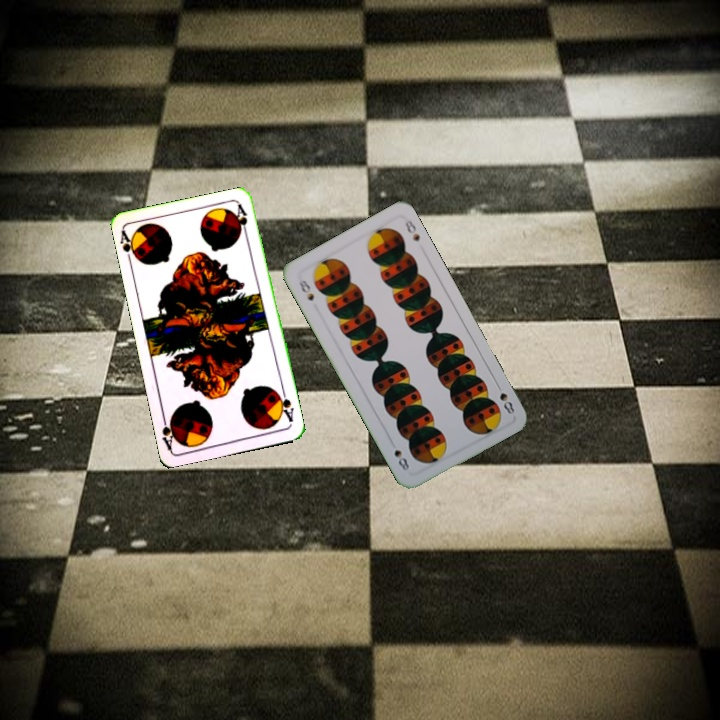S8: (295, 276, 317, 304), (495, 389, 517, 417)
SA: (117, 227, 142, 267), (272, 386, 296, 425)
